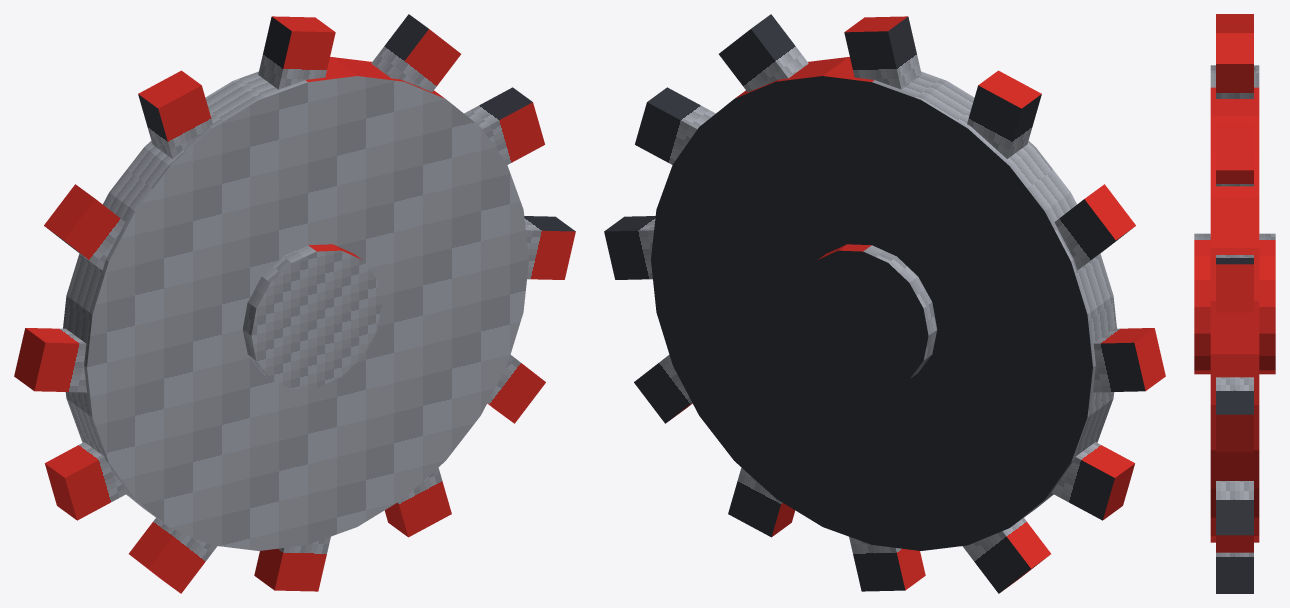
Rendered from Saw_Disc.obj.
The picture shows the model from 3 angles, left to right: view 1: azimuth 30°, elevation 25°; view 2: azimuth 150°, elevation 25°; view 3: azimuth 270°, elevation 25°; orthographic projection. The views are drawn at different scales.
Visible parts, largest first — view 1: Saw_Disc; view 2: Saw_Disc; view 3: Saw_Disc.
Boxes of the visible parts, <box> form: Saw_Disc: <box>14,14,575,593</box>; Saw_Disc: <box>604,14,1165,593</box>; Saw_Disc: <box>1194,14,1275,593</box>.
Size of the model in its own units: 1.08 by 1.08 by 0.15.
Materials: 1 (1 with a texture image).
